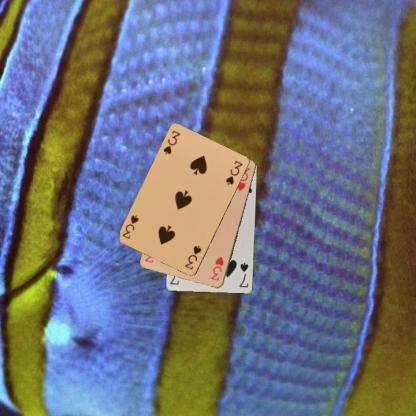3h: (208, 254, 224, 282)
3s: (160, 128, 182, 156), (182, 243, 203, 271)
7s: (237, 260, 249, 289)
